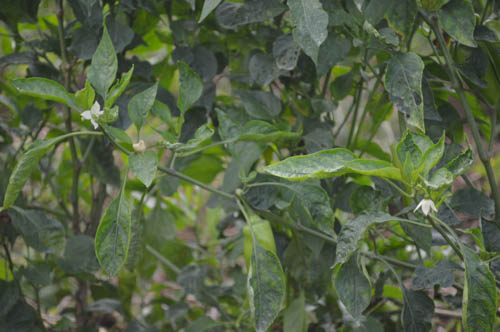ChiliPepper: (245, 219, 277, 261)
